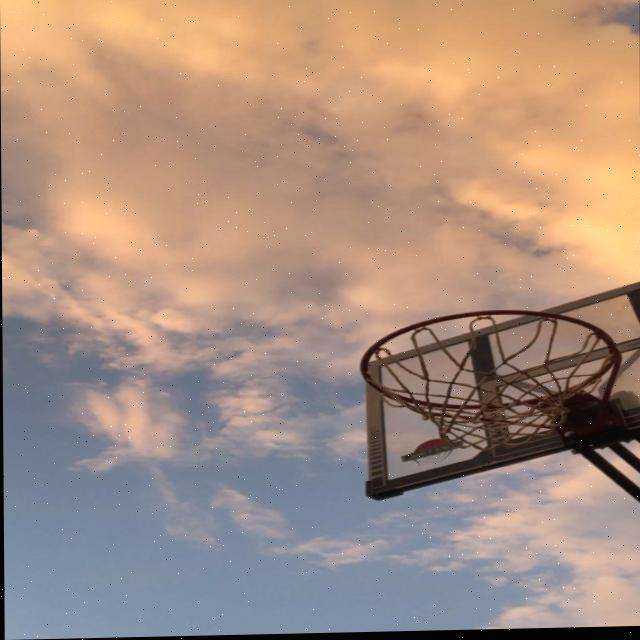hoop: (318, 308, 640, 473)
